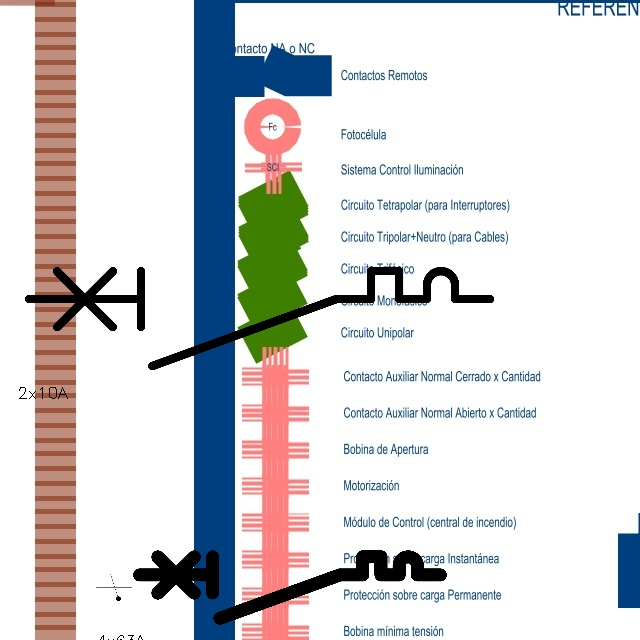interruptor_termomagnetico: (17, 259, 502, 377), (131, 549, 447, 626)
